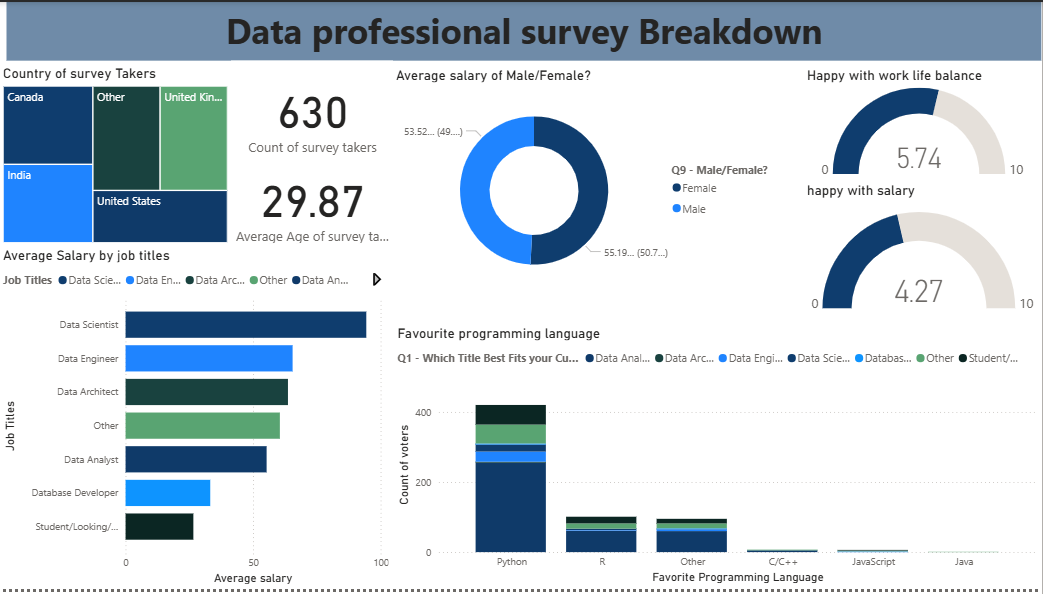

What the dashboard file says about the page in this screenshot:
{"tool":"powerbi","page":{"name":"Page 1","canvas":[1280,720],"ordinal":0},"visuals":[{"type":"textbox","box":[10,0,1270,72],"z":0},{"type":"card","fields":{"Values":["CountNonNull(Data Professional Survey.Unique ID)"]},"box":[284.9,71.7,198.1,134],"z":1000},{"type":"card","fields":{"Values":["Avg(Data Professional Survey.Q10 - Current Age)"]},"box":[284.9,194.3,198.1,105.7],"z":2000},{"type":"barChart","title":"Average Salary by job titles","fields":{"Category":["Data Professional Survey.Q1 - Which Title Best Fits your Current Role?.1"],"Y":["Avg(Data Professional Survey.Average salary)"],"Series":["Data Professional Survey.Q1 - Which Title Best Fits your Current Role?.1"]},"box":[0,300,483,418.9],"z":3000},{"type":"columnChart","title":"Favourite programming language","fields":{"Category":["Data Professional Survey.Q5 - Favorite Programming Language.1"],"Y":["CountNonNull(Data Professional Survey.Unique ID)"],"Series":["Data Professional Survey.Q1 - Which Title Best Fits your Current Role?.1"]},"box":[484,396,794,322],"z":4000},{"type":"treemap","title":"Country of survey Takers","fields":{"Group":["Data Professional Survey.Q11 - Which Country do you live in?.1"],"Values":["Count(Data Professional Survey.Q11 - Which Country do you live in?.1)"]},"box":[0,77.4,284.9,222.6],"z":5000},{"type":"gauge","title":"Happy with work life balance","fields":{"Y":["Avg(Data Professional Survey.Q6 - How Happy are you in your Current Position with the following? (Work/Life Balance))"],"MinValue":["Min(Data Professional Survey.Q6 - How Happy are you in your Current Position with the following? (Work/Life Balance))"],"MaxValue":["Max(Data Professional Survey.Q6 - How Happy are you in your Current Position with the following? (Work/Life Balance))"]},"box":[986.8,79.2,292.5,141.5],"z":6000},{"type":"gauge","title":"happy with salary","fields":{"Y":["Avg(Data Professional Survey.Q6 - How Happy are you in your Current Position with the following? (Salary))"],"MinValue":["Min(Data Professional Survey.Q6 - How Happy are you in your Current Position with the following? (Salary))"],"MaxValue":["Max(Data Professional Survey.Q6 - How Happy are you in your Current Position with the following? (Salary))"]},"box":[986.8,220.8,292.5,175.5],"z":7000},{"type":"donutChart","title":"Average salary of Male/Female?","fields":{"Category":["Data Professional Survey.Q9 - Male/Female?"],"Y":["Avg(Data Professional Survey.Average salary)"]},"box":[483,79.2,483,283],"z":8000}]}

Visuals, with their boxes in screenshot pixels (x1, y1, x2, y2), scaled from the page's 1280x720 canvas onto the 1043x594 screenshot:
textbox: box=[8, 0, 1042, 59]
card - CountNonNull(Data Professional Survey.Unique ID): box=[232, 59, 394, 170]
card - Avg(Data Professional Survey.Q10 - Current Age): box=[232, 160, 394, 248]
"Average Salary by job titles" barChart: box=[0, 248, 394, 593]
"Favourite programming language" columnChart: box=[394, 327, 1041, 592]
"Country of survey Takers" treemap: box=[0, 64, 232, 248]
"Happy with work life balance" gauge: box=[804, 65, 1042, 182]
"happy with salary" gauge: box=[804, 182, 1042, 327]
"Average salary of Male/Female?" donutChart: box=[394, 65, 787, 299]
